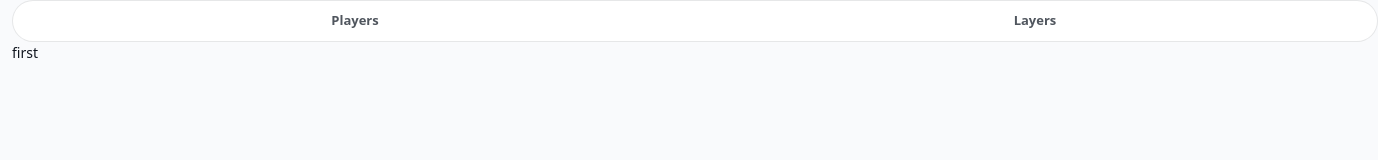
Test: Tabs › switches panels
Expected: the text "first" is shown, [12,43,38,62]
Click the tab "Layers". click: (1035, 21)
box: [697,5,1373,37]
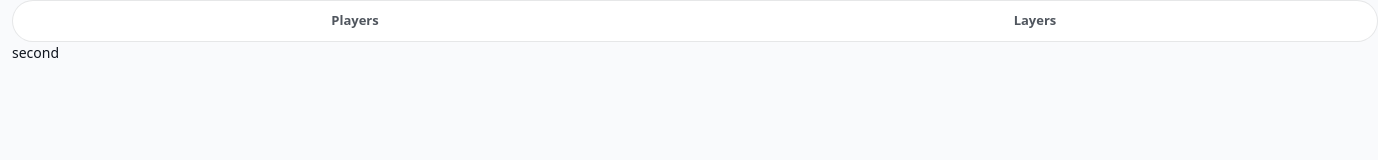
Expected: the text "second" is shown, [12,43,59,62]
